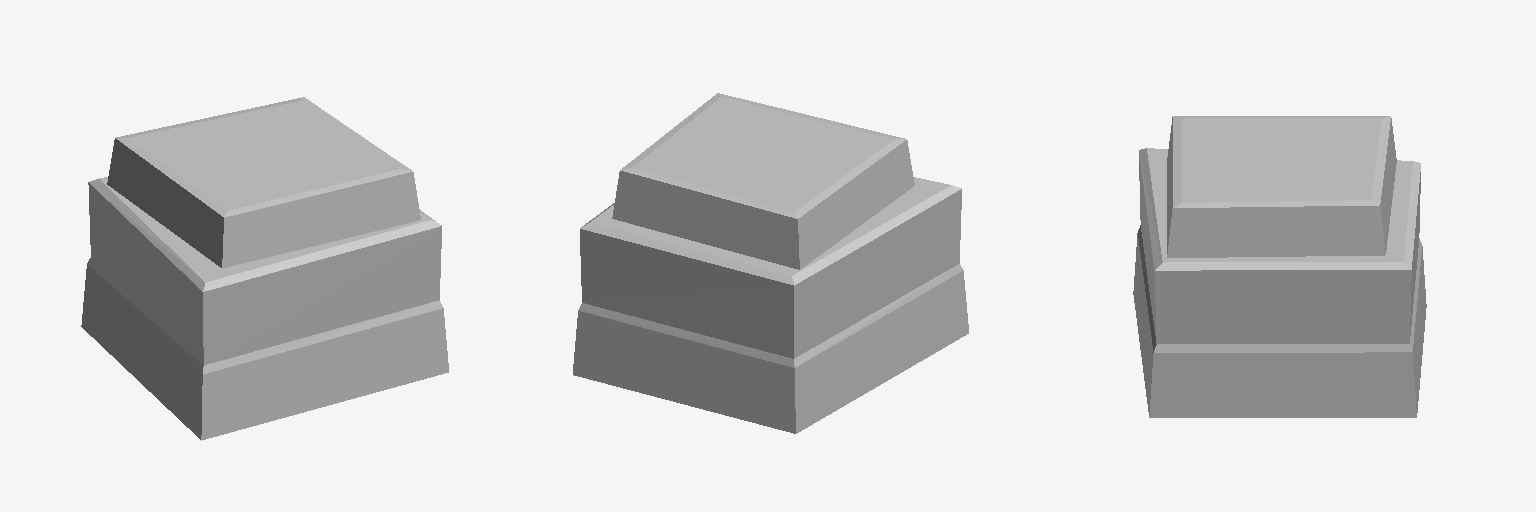
File: corner3.obj
The picture shows the model from 3 angles: view 1: azimuth 30°, elevation 25°; view 2: azimuth 150°, elevation 25°; view 3: azimuth 270°, elevation 25°; orthographic projection.
Bounding box in the file's own units: 1.35 × 1.01 × 1.34.